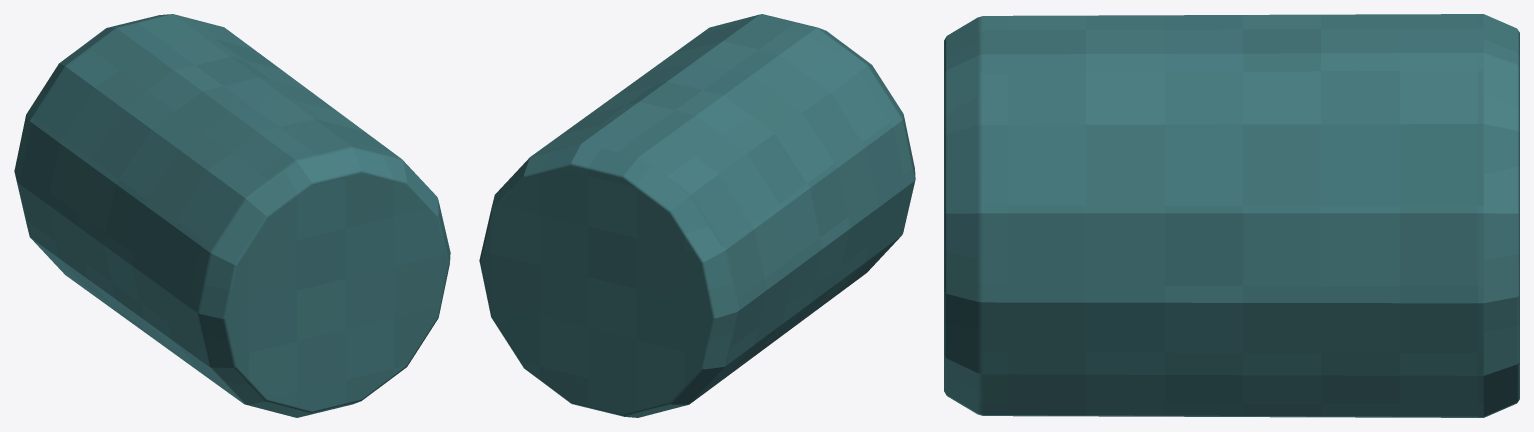
The model's file is Rolled-linen.glb.
3 renders of one model, left to right at view 1: azimuth 30°, elevation 25°; view 2: azimuth 150°, elevation 25°; view 3: azimuth 270°, elevation 25°, orthographic. The views are drawn at different scales.
Visible parts, largest first — view 1: Rolled-linen; view 2: Rolled-linen; view 3: Rolled-linen.
Part boxes in pixels (x1=…): Rolled-linen: x1=14, y1=14, x2=450, y2=417; Rolled-linen: x1=479, y1=14, x2=915, y2=417; Rolled-linen: x1=944, y1=14, x2=1519, y2=417.
Bounding box in the file's own units: 0.206 × 0.2008 × 0.287.
Materials: 1 (1 with a texture image).
